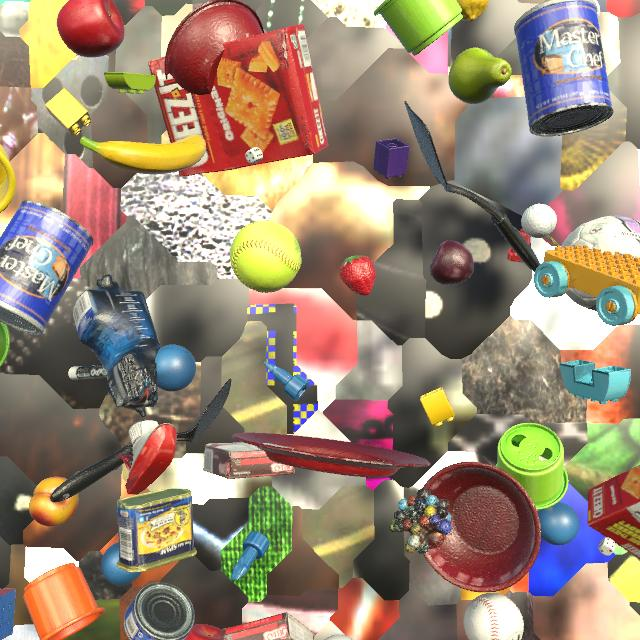ycb_002_master_chef_can: (514, 0, 613, 137), (0, 200, 94, 335)
ycb_003_cracker_box: (148, 24, 329, 177), (587, 465, 640, 559)
ycb_007_tuna_fish_can: (124, 582, 195, 640)
ycb_008_pudding_box: (203, 442, 295, 479), (222, 612, 315, 640)
ycb_010_potted_meat_can: (116, 488, 197, 572)
ycb_011_banana: (79, 135, 206, 174)
ycb_012_strawberry: (340, 255, 376, 296)
ycb_013_apple: (57, 0, 125, 58), (184, 624, 223, 640)
ycb_014_lemon: (456, 0, 489, 21)
ycb_015_peach: (29, 477, 79, 526)
ycb_016_pear: (448, 48, 512, 104)
ycb_018_plum: (429, 240, 474, 285)
